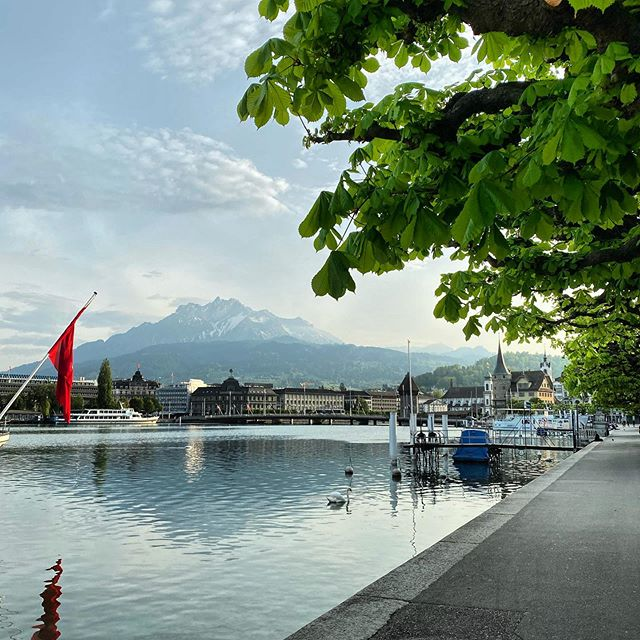building: (189, 368, 285, 415), (490, 345, 555, 414), (283, 380, 351, 422)
flag: (42, 287, 109, 429)
mountain: (123, 278, 341, 354)
sea: (1, 438, 445, 640)
sky: (1, 1, 381, 322)
vegetation: (320, 1, 640, 425)
